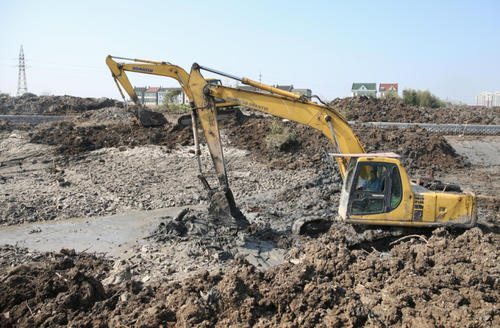excavator: (188, 60, 487, 241), (105, 49, 209, 125)
